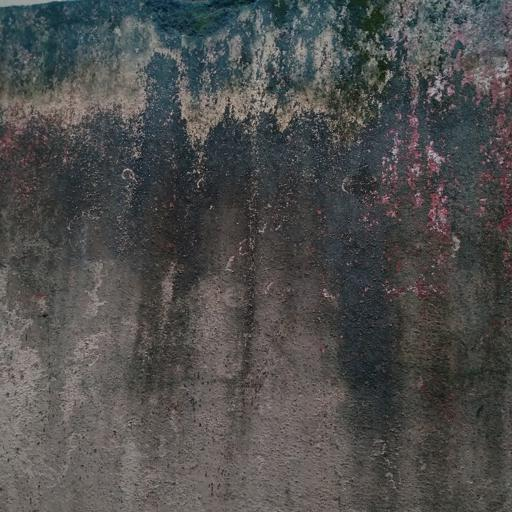algae: (10, 4, 512, 458)
